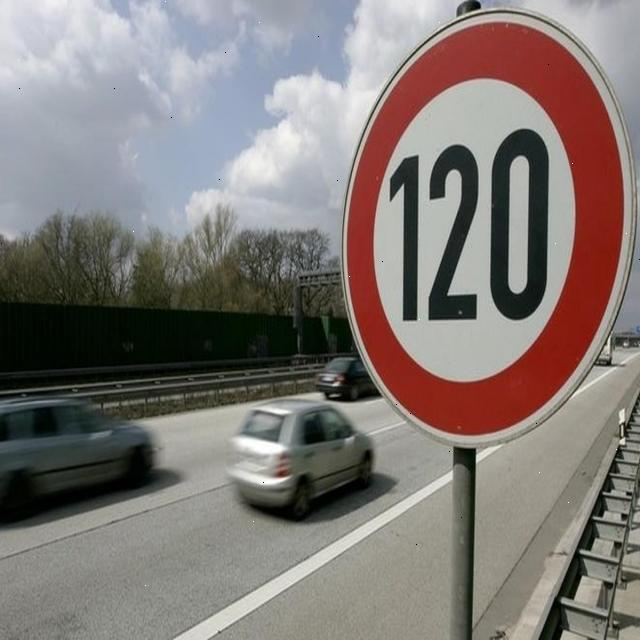speed limit 120: (343, 8, 639, 448)
